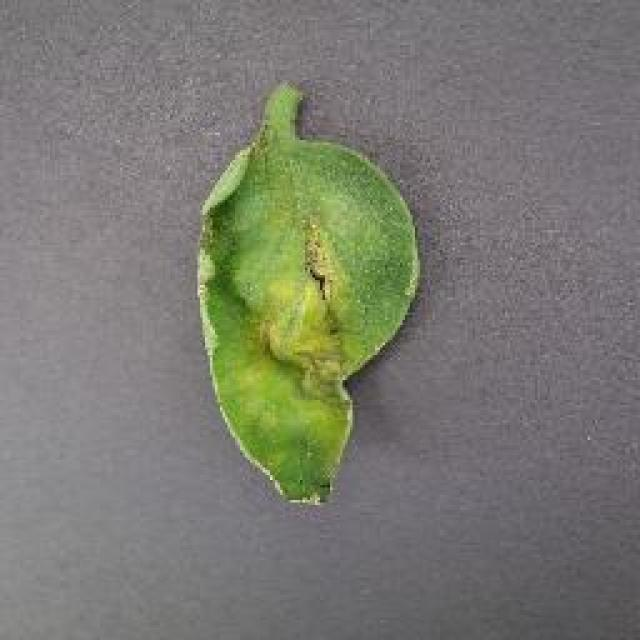Tomato_Late_Blight: (203, 182, 383, 509)
